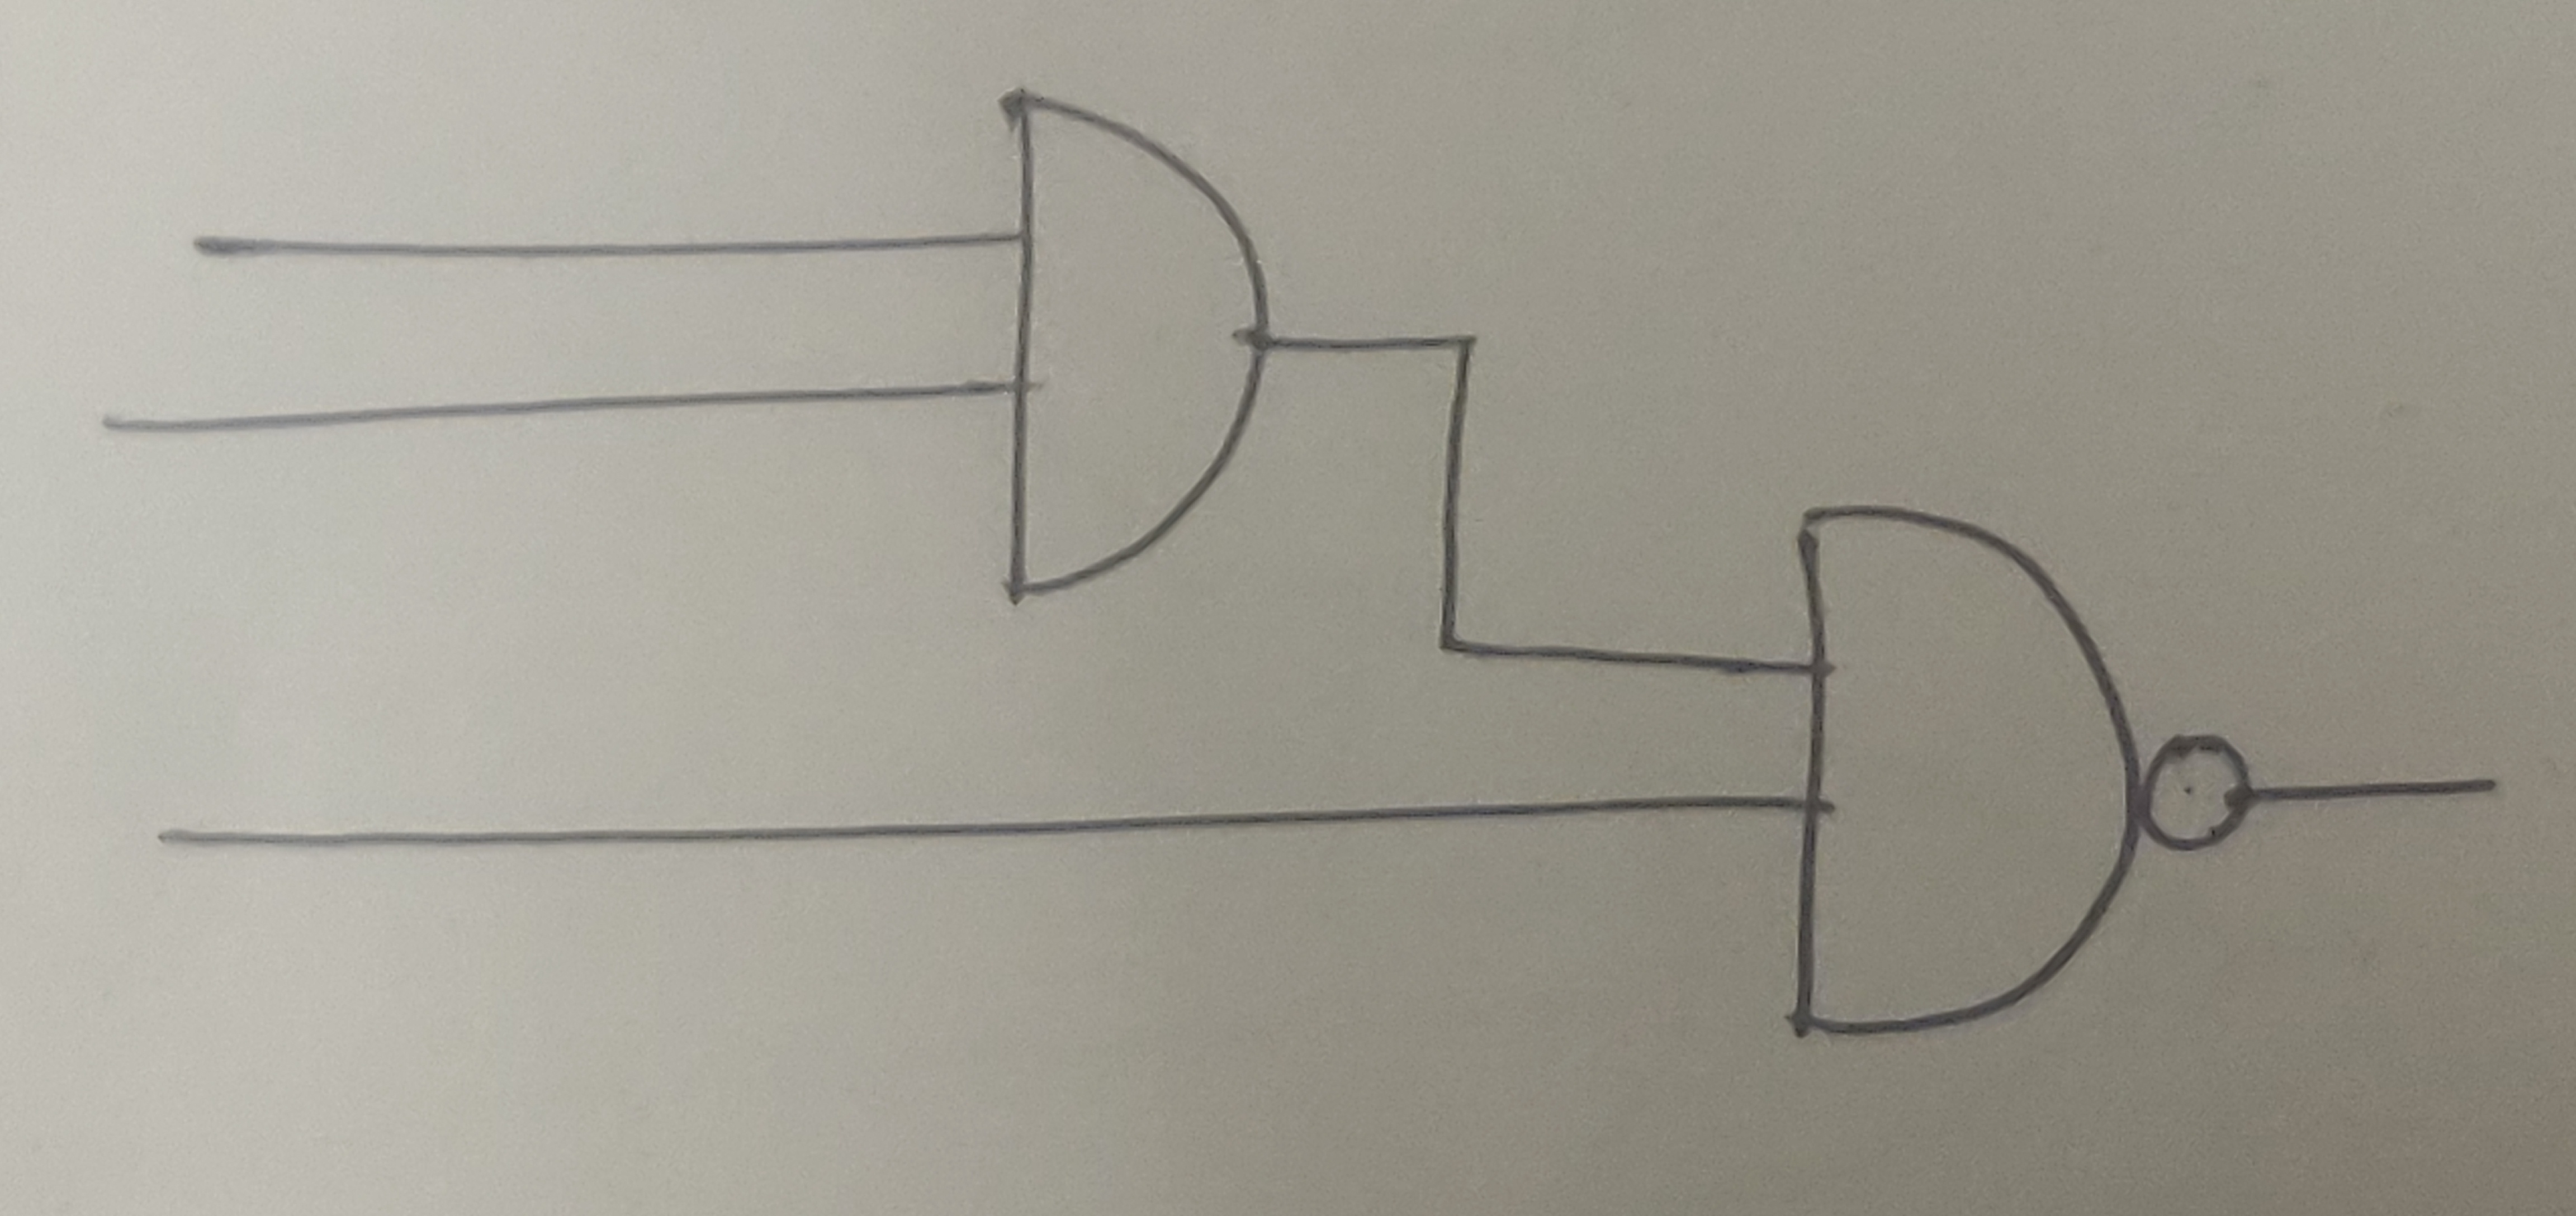and: (1787, 493, 2146, 1039), (996, 85, 1278, 605)
not: (2142, 726, 2257, 854)
